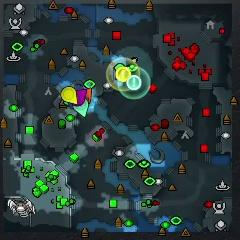Other: (116, 66, 131, 82), (127, 75, 142, 90)
p1: (68, 104, 74, 109)
p2: (74, 98, 89, 117)
p3: (76, 88, 87, 105)
p4: (62, 87, 77, 105)
p5: (86, 87, 92, 103)
